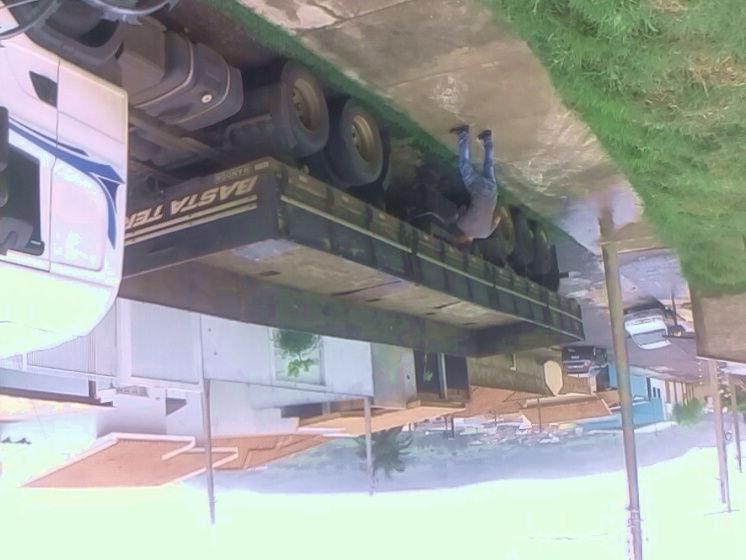person: (445, 124, 505, 253)
